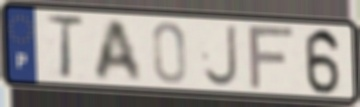0: (151, 19, 189, 86)
6: (302, 26, 343, 96)
A: (92, 18, 145, 83)
F: (246, 25, 297, 92)
J: (202, 23, 241, 90)
T: (43, 14, 87, 81)
